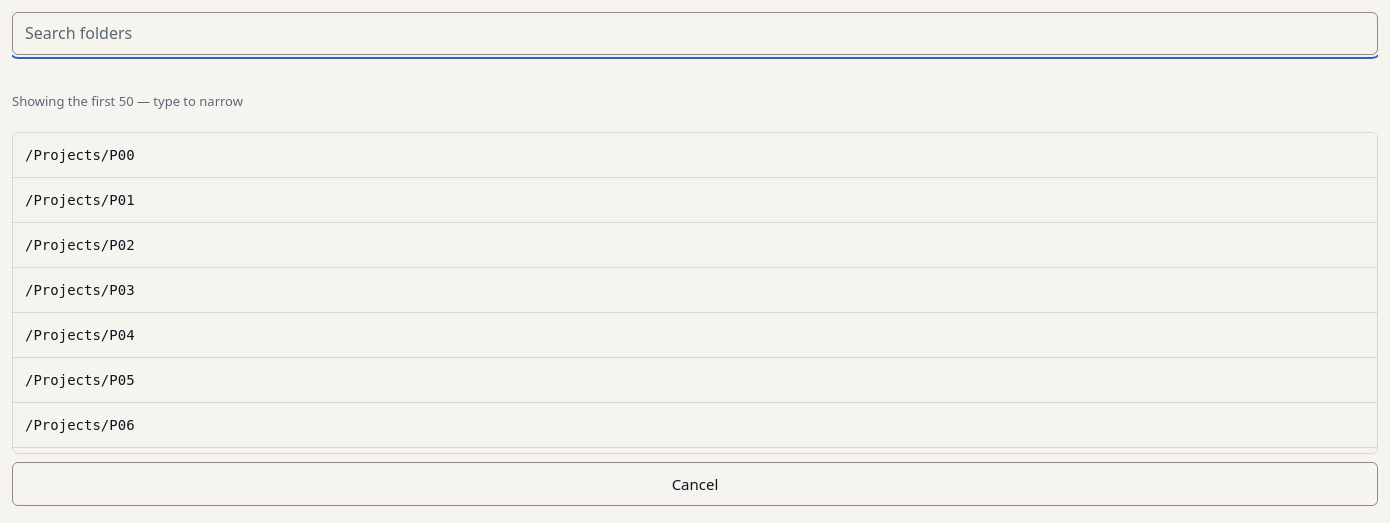
Test: FolderPicker › says only the first results show until the search narrows them
Check: the text "Showing the first 50 — type to narrow" is shown, box [12,92,243,110]
Type "P07" into the search field labelled "Search folders" at (695, 33), box [12,12,1378,55]
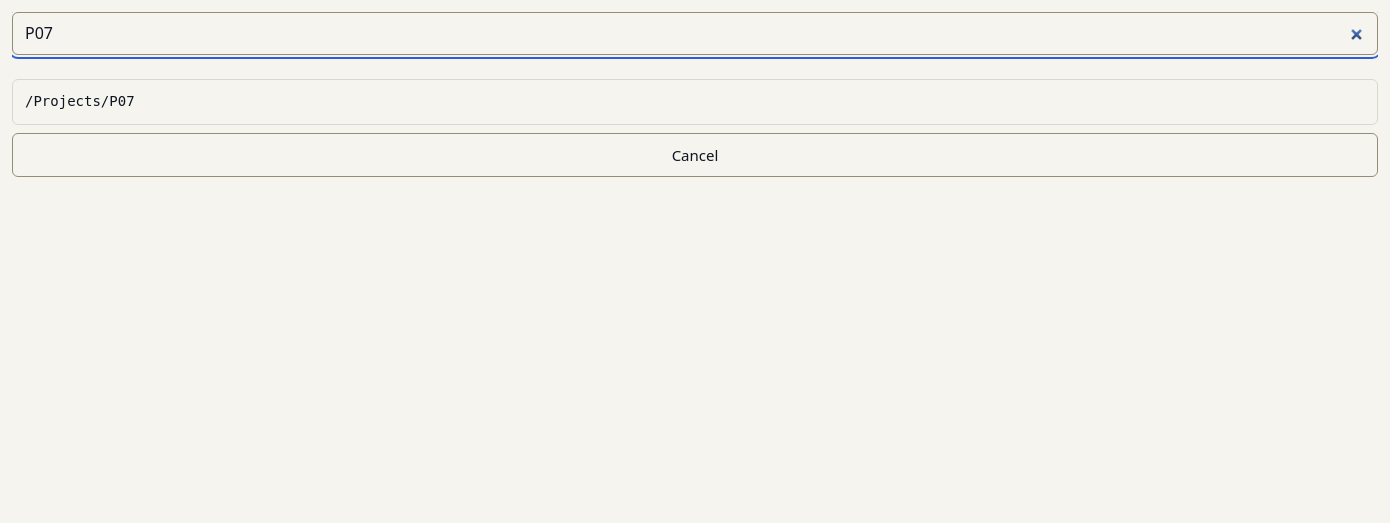
Check: the text "Showing the first" is gone
